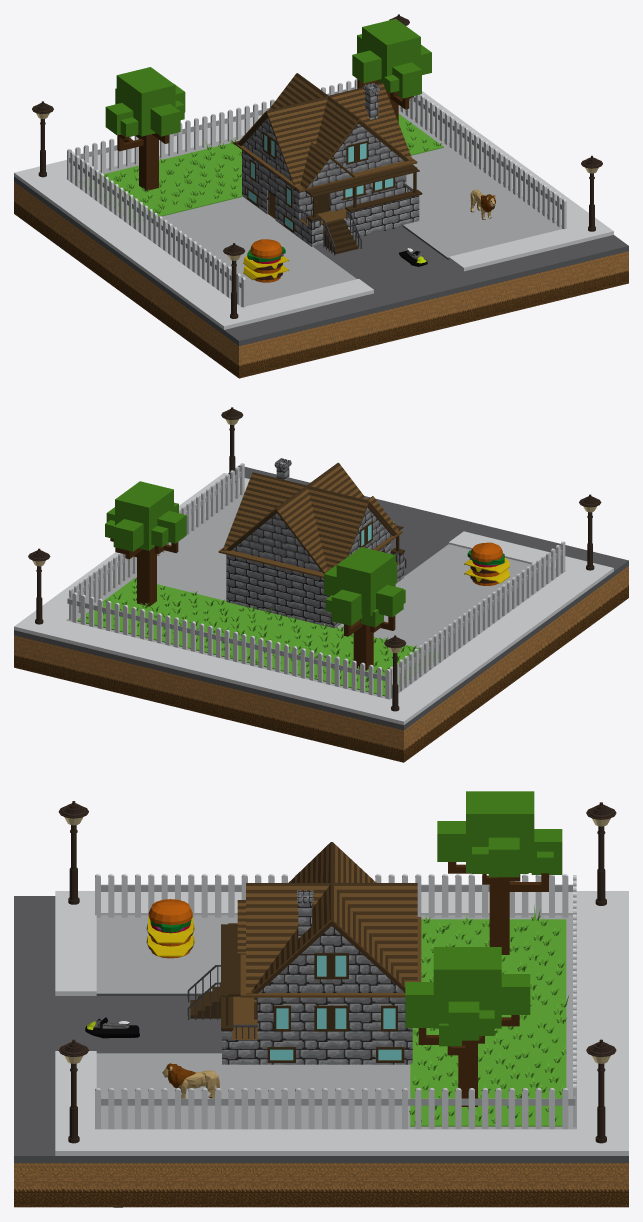
3 views of the same model, one above another, from view 1: azimuth 30°, elevation 25°; view 2: azimuth 150°, elevation 25°; view 3: azimuth 270°, elevation 25° (orthographic). The views are drawn at different scales.
Parts seen in each view (by area): view 1: Cube.004, Cube.586, OBJRANDOM_HAMBURGER, ANIMAL_LEON; view 2: Cube.004, Cube.586, OBJRANDOM_HAMBURGER; view 3: Cube.004, Cube.586, OBJRANDOM_HAMBURGER, ANIMAL_LEON, VEHICLES_WATERBIKE.
Boxes of the visible parts, x1,y1,x2,y2 form: Cube.004: (14,14,628,378); Cube.586: (233,73,422,255); OBJRANDOM_HAMBURGER: (243,239,289,282); ANIMAL_LEON: (470,189,495,219); Cube.004: (14,407,628,762); Cube.586: (218,458,406,627); OBJRANDOM_HAMBURGER: (464,542,509,585); Cube.004: (14,791,628,1207); Cube.586: (187,842,421,1064); OBJRANDOM_HAMBURGER: (146,899,194,958); ANIMAL_LEON: (162,1062,219,1098); VEHICLES_WATERBIKE: (85,1017,139,1038).
Bounding box in the file's own units: 4000 × 1583 × 4000.
29 materials, 4 textured.
